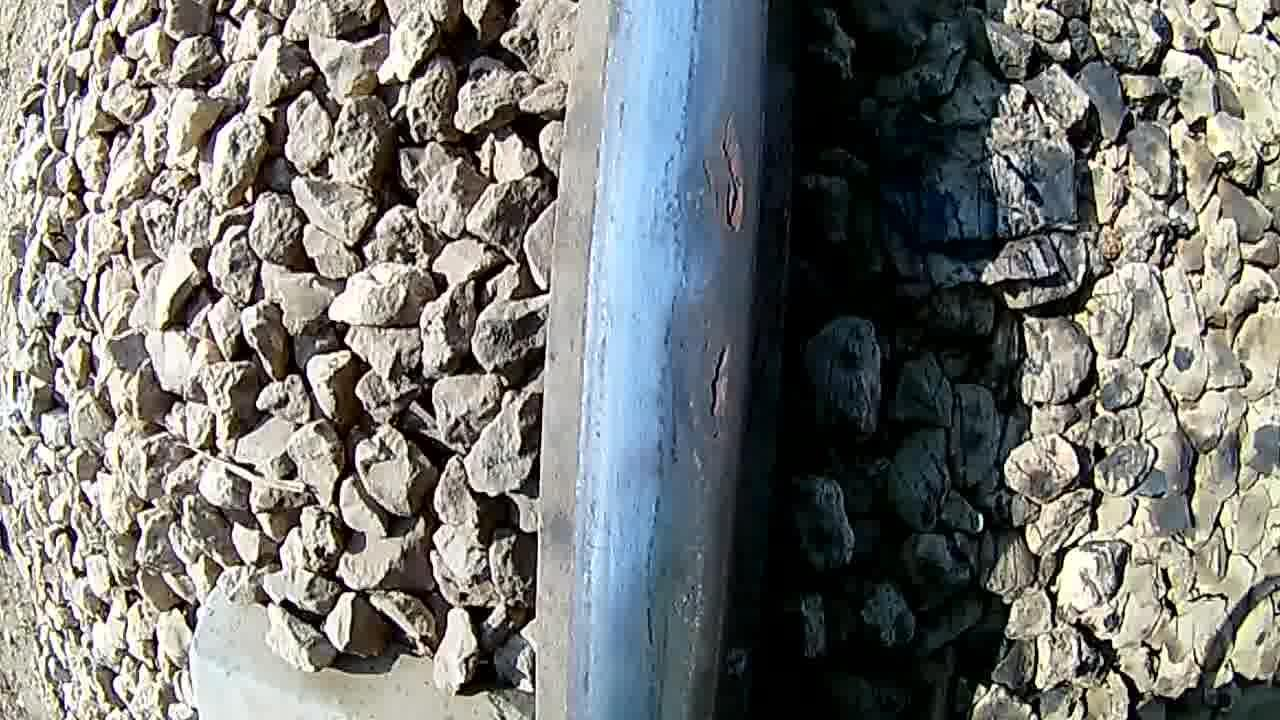crack: (580, 0, 764, 632)
